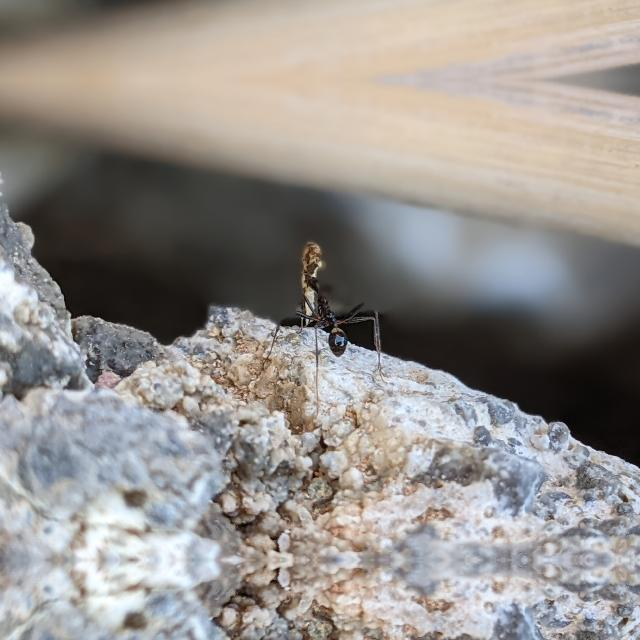Apheanogaster: (290, 290, 372, 362)
